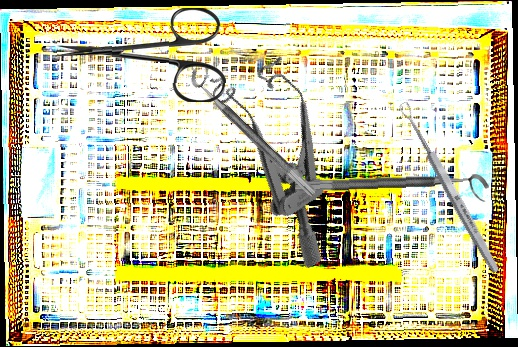Fixation Ring: (184, 58, 329, 200), (294, 173, 490, 209)
Iris Scissors: (54, 5, 227, 103)
Speculum: (191, 40, 387, 270)
Surgical Spoon: (397, 99, 502, 276)
